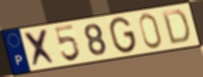0: (138, 12, 165, 51)
5: (53, 23, 82, 63)
8: (83, 23, 108, 57)
D: (160, 8, 192, 46)
G: (108, 16, 138, 55)
X: (22, 27, 59, 68)
